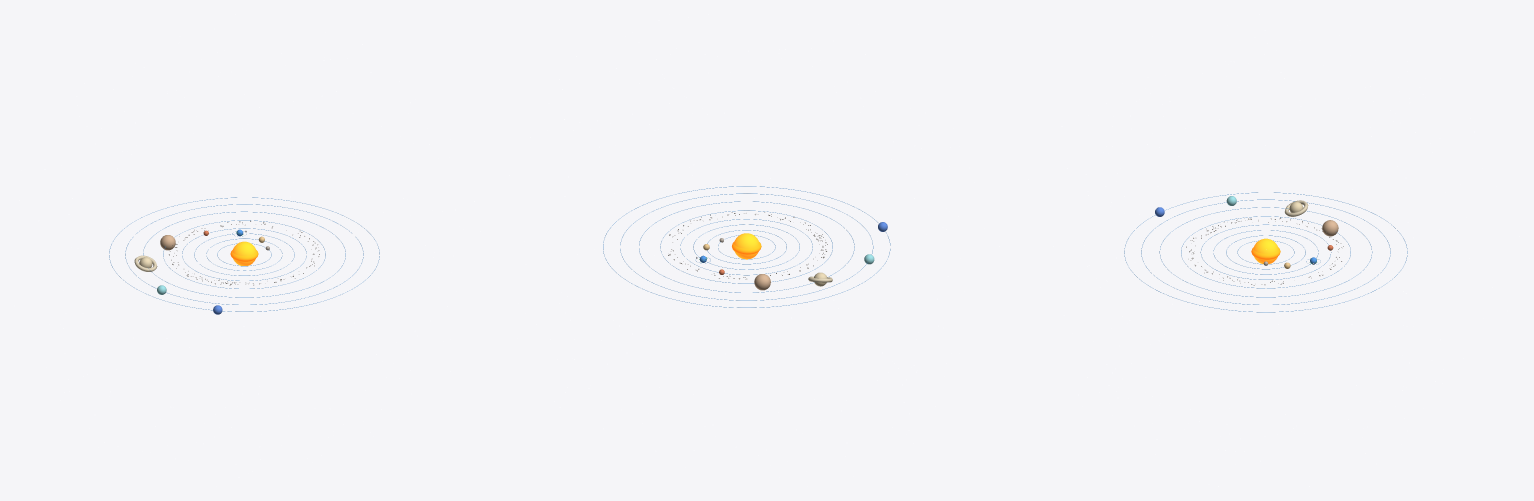
The model's file is SolarSystem.glb.
3 views of the same model, side by side, from view 1: azimuth 30°, elevation 25°; view 2: azimuth 150°, elevation 25°; view 3: azimuth 270°, elevation 25° (orthographic). The views are drawn at different scales.
Size of the model in its own units: 33.34 by 33.87 by 34.72.
